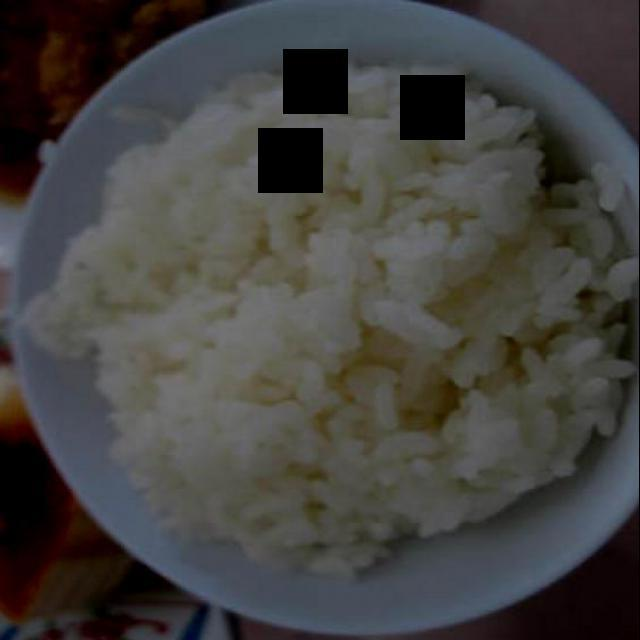rice: (16, 61, 640, 589)
